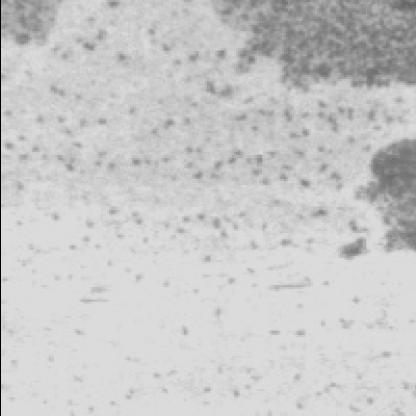pitted_surface: (0, 100, 358, 260), (214, 2, 410, 96), (364, 131, 414, 258), (0, 3, 60, 69)
